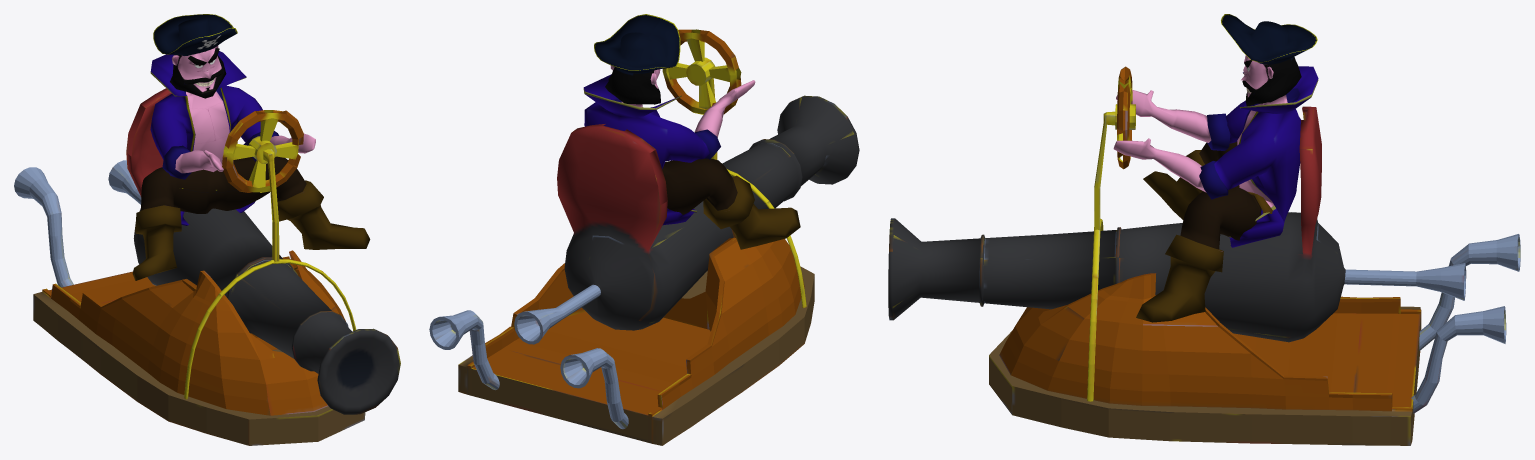
File: pirataGiroDER_000246.obj
3 views of the same model, side by side, from view 1: azimuth 30°, elevation 25°; view 2: azimuth 150°, elevation 25°; view 3: azimuth 270°, elevation 25° (orthographic). The views are drawn at different scales.
Visible parts, largest first — view 1: carro_pirata, Pirata_PirataH; view 2: carro_pirata, Pirata_PirataH; view 3: carro_pirata, Pirata_PirataH.
Part boxes in pixels (box(x1,y1,x2,y2)): carro_pirata: box(14, 88, 400, 445); Pirata_PirataH: box(132, 14, 370, 280); carro_pirata: box(429, 29, 859, 445); Pirata_PirataH: box(583, 14, 800, 249); carro_pirata: box(888, 66, 1520, 445); Pirata_PirataH: box(1113, 14, 1318, 322).
Size of the model in its own units: 5.66 by 7.73 by 12.1.
2 materials, 2 textured.
